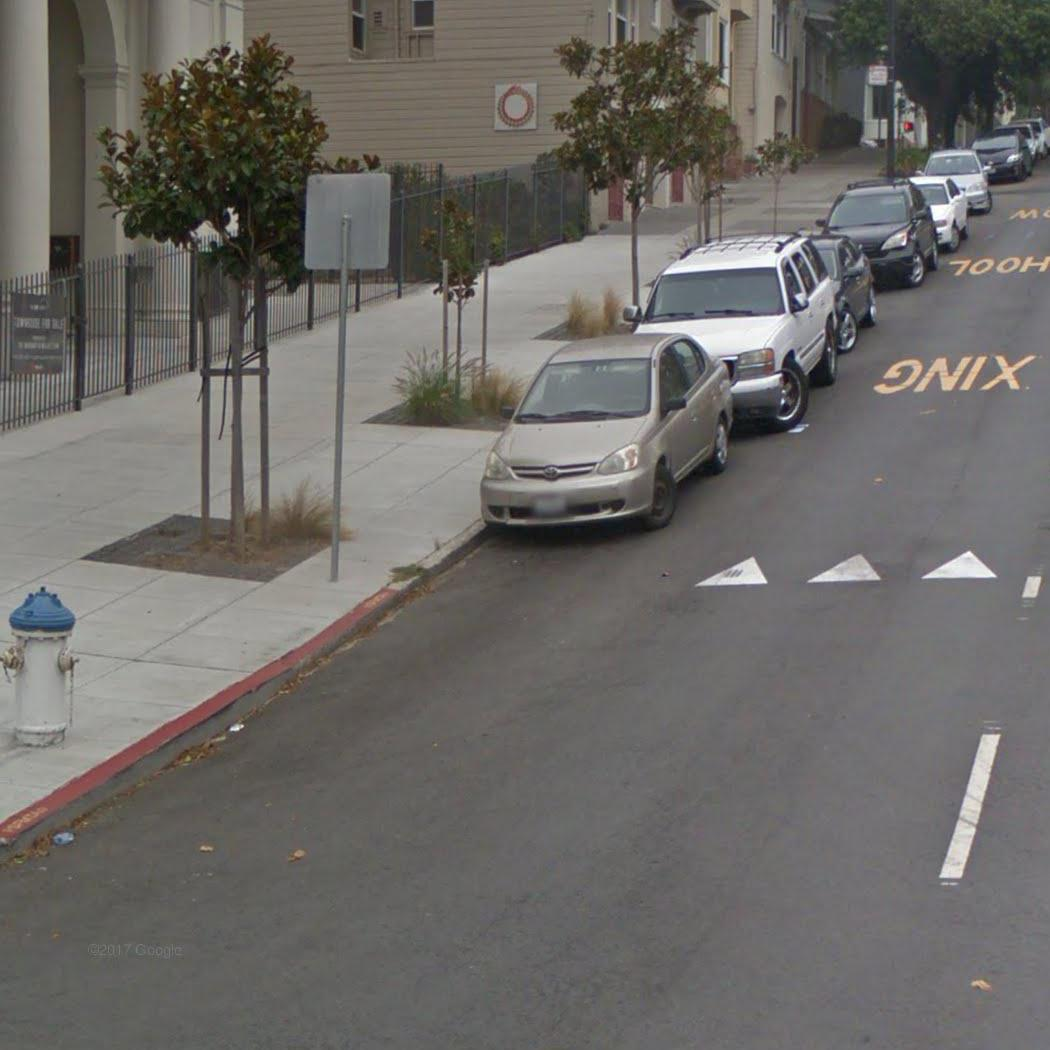No Parking: (867, 62, 890, 87)
